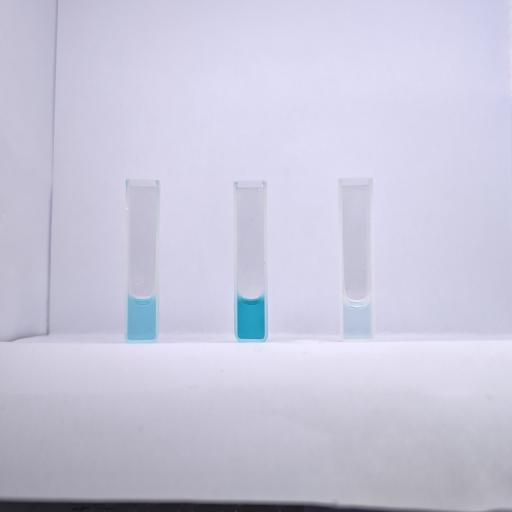cuvette: (336, 175, 376, 343), (122, 176, 162, 344), (232, 178, 272, 342)
liquid: (128, 295, 156, 340), (238, 295, 264, 338), (344, 298, 370, 337)
